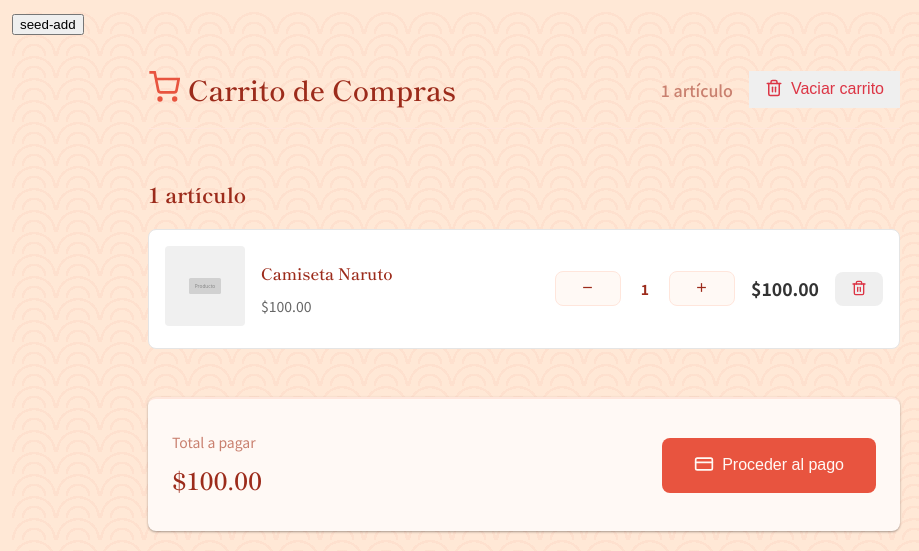
Test: happy vaciar: "Vaciar carrito" deja el carrito vacío y muestra el estado vacío
Expected: the heading "Carrito de Compras" is shown, [188,67,456,112]
Click the button "Vaciar carrito" at [824, 89], box [749,71,900,108]
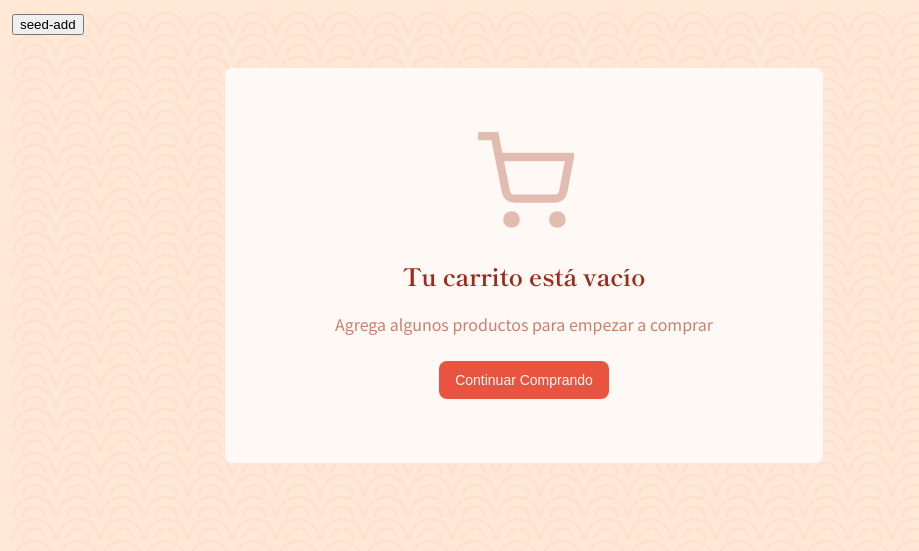
Expected: the heading "Tu carrito está vacío" is shown, [403,258,645,293]
